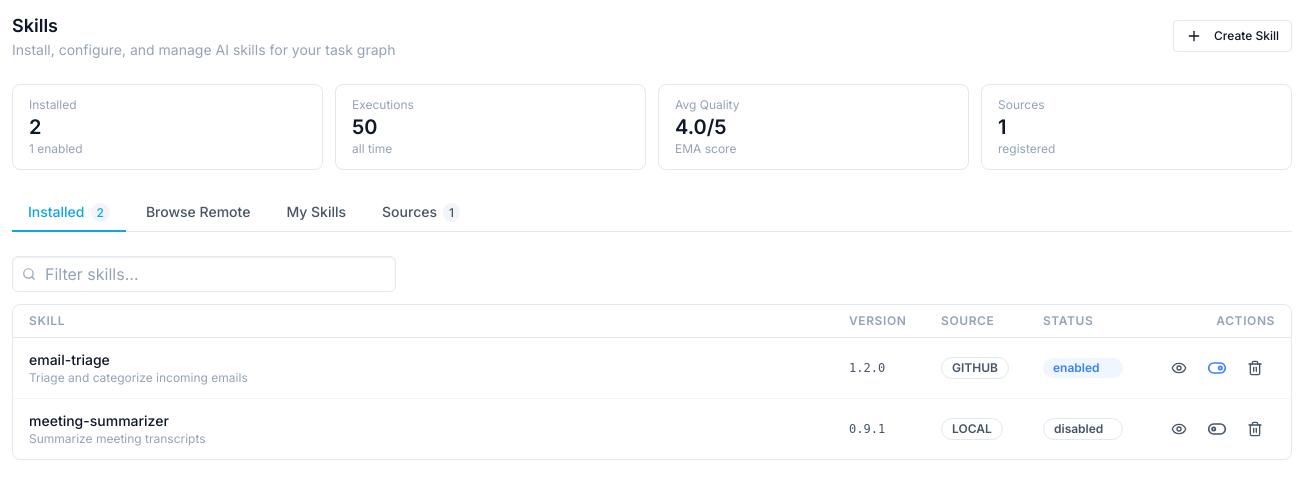
SkillsPage › filters skills by query
Check: the text "email-triage" is shown, box [29,351,110,368]
Type "email" into the field with placeholder "Filter skills...".
click(204, 274); type("email")  # box [12,256,396,292]
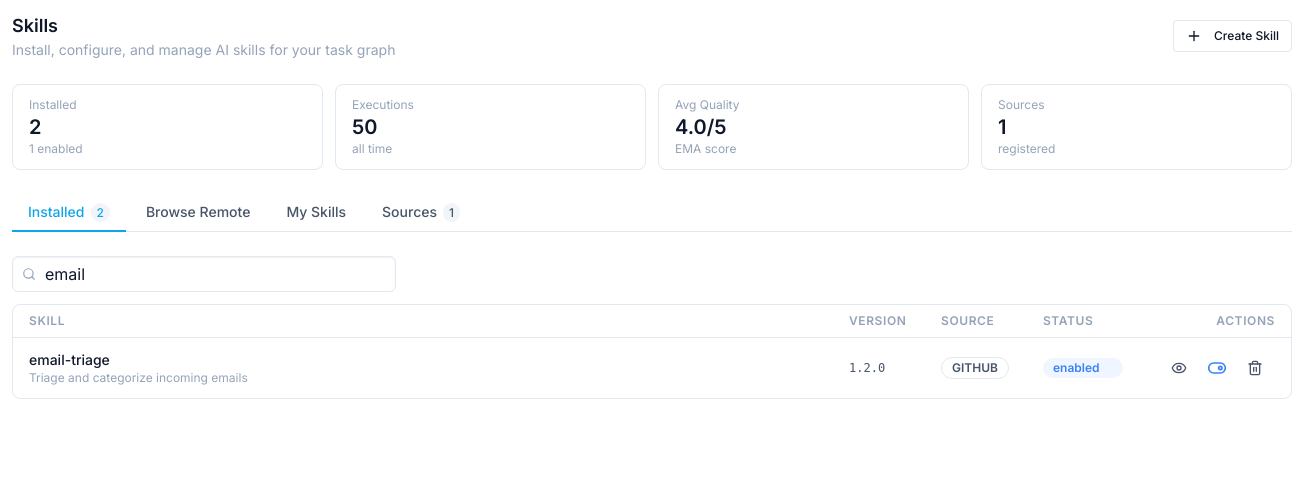
Check: the text "email-triage" is shown, box [29,351,110,368]
Check: the text "meeting-summarizer" is gone
